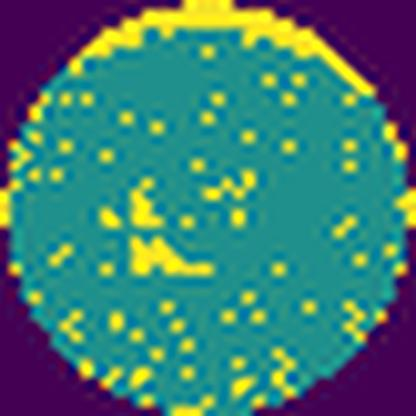Edge-Loc: (69, 0, 377, 101)
